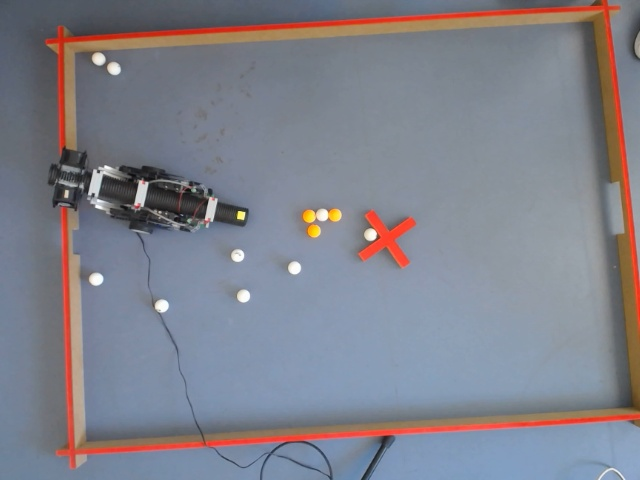orange: (305, 218, 319, 240), (304, 208, 319, 225), (328, 207, 342, 221), (302, 208, 316, 222), (307, 223, 320, 238)
robot: (52, 151, 253, 231)
white: (90, 50, 107, 68), (88, 270, 105, 287), (632, 27, 640, 63), (106, 60, 122, 77), (230, 247, 246, 263), (236, 288, 251, 304), (287, 260, 302, 275), (154, 298, 169, 313), (363, 227, 376, 242), (315, 208, 328, 221), (235, 210, 247, 223)
